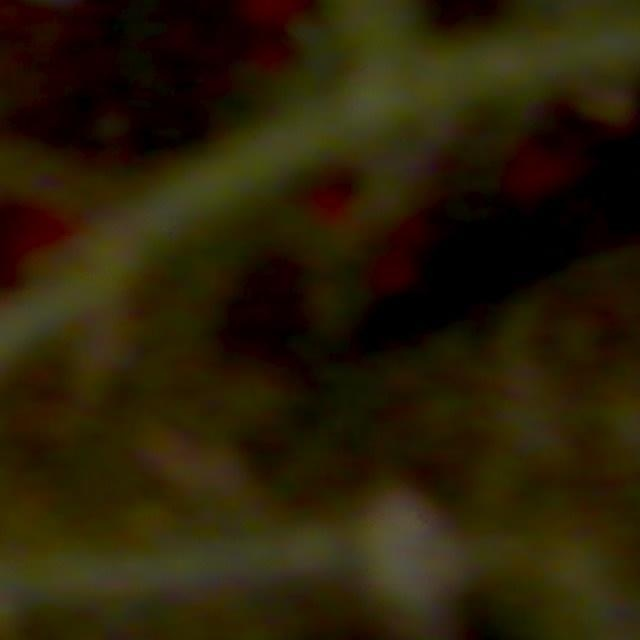SeaGrape: (531, 285, 640, 385)
